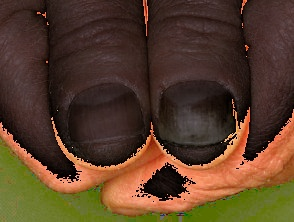Nail_psoriasis: (146, 73, 250, 168)
